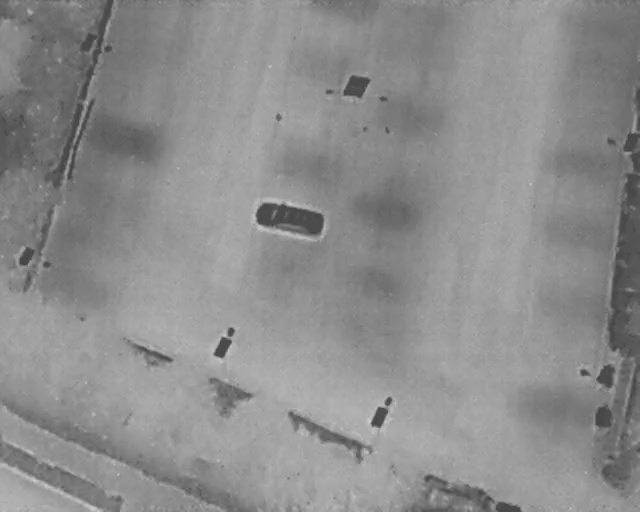Car: (253, 197, 326, 239)
